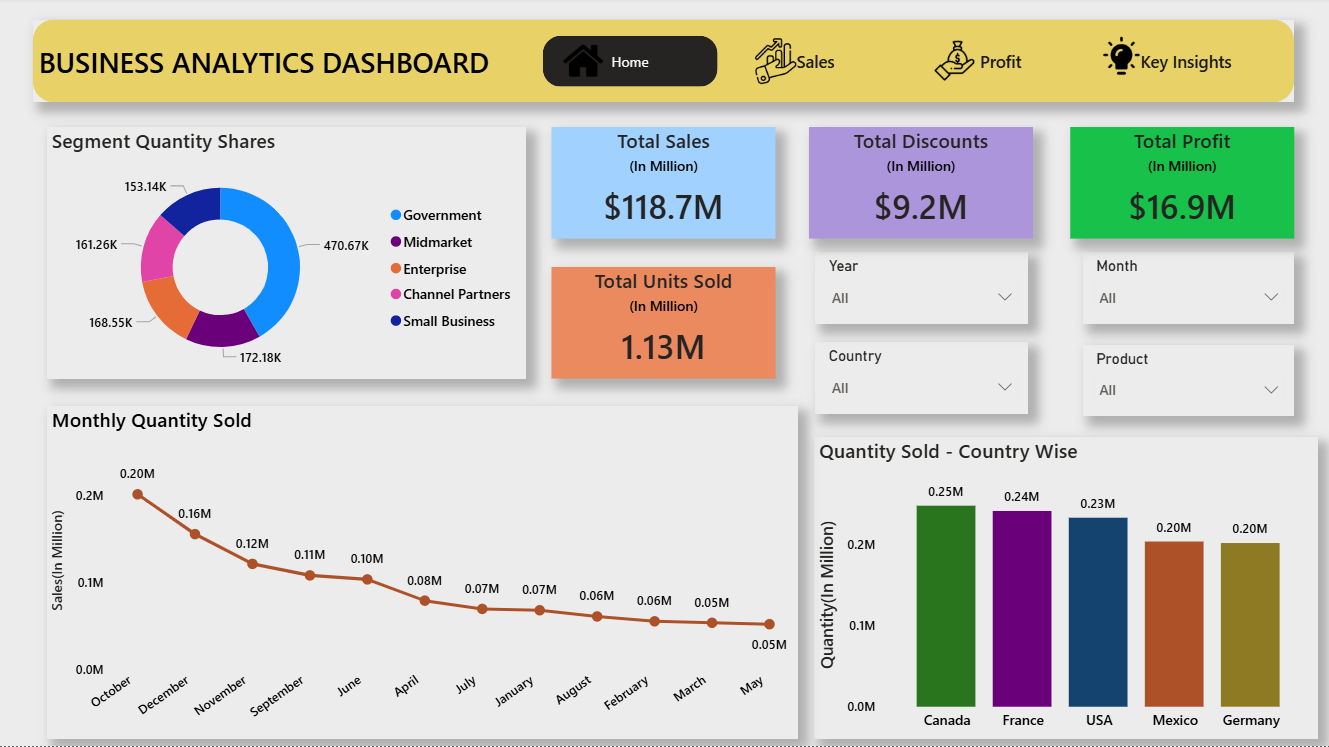

What the dashboard file says about the page in this screenshot:
{"tool":"powerbi","page":{"name":"Home","canvas":[1280,720],"ordinal":0},"visuals":[{"type":"slicer","fields":{"Values":["financials.Country"]},"box":[34.3,146.8,215.4,72.7],"z":0},{"type":"slicer","fields":{"Values":["financials.Product"]},"box":[282.7,259.3,215.4,72.7],"z":1000},{"type":"slicer","fields":{"Values":["financials.Year"]},"box":[282.7,146.8,215.4,72.7],"z":2000},{"type":"slicer","fields":{"Values":["financials.Month Name"]},"box":[32.9,259.3,215.4,72.7],"z":3000},{"type":"shape","box":[32.9,22,1211.7,79.6],"z":4000},{"type":"cardVisual","title":"Total Sales","fields":{"Data":["financials.Total Sales"]},"box":[531,124.9,215.4,107],"z":5000},{"type":"cardVisual","title":"Total Discounts ","fields":{"Data":["financials.Toatl Discount"]},"box":[767.1,124.9,215.4,107],"z":6000},{"type":"cardVisual","title":"Total Units Sold ","fields":{"Data":["financials.Total Quantity"]},"box":[531,259.3,215.4,107],"z":7000},{"type":"cardVisual","title":"Total Profit","fields":{"Data":["financials.Total Profit"]},"box":[1010,124.9,215.4,107],"z":8000},{"type":"columnChart","title":"Quantity Sold - Country Wise","fields":{"Category":["financials.Country"],"Y":["financials.Total Quantity"]},"box":[798.6,494,469.3,218.2],"z":9000},{"type":"donutChart","title":"Segment Quantity Shares","fields":{"Category":["financials.Segment"],"Y":["financials.Total Quantity"]},"box":[802.7,259.3,459.7,214.1],"z":10000},{"type":"lineChart","title":"Monthly Quantity Sold","fields":{"Category":["financials.Month Name"],"Y":["financials.Total Quantity"]},"box":[45.3,392.5,721.8,319.7],"z":11000},{"type":"pageNavigator","box":[522.8,37,702.6,49.4],"z":12000},{"type":"image","box":[887.8,42.5,60.4,38.4],"z":13000},{"type":"image","box":[709.4,39.8,72.7,43.9],"z":14000},{"type":"image","box":[531,42.5,60.4,38.4],"z":15000},{"type":"image","box":[1047,37,61.7,38.4],"z":16000}]}

Visuals, with their boxes in screenshot pixels (x1, y1, x2, y2), scaled from the page's 1280x720 canvas onto the 1329x747 screenshot:
slicer - financials.Country: bbox(36, 152, 259, 228)
slicer - financials.Product: bbox(294, 269, 517, 344)
slicer - financials.Year: bbox(294, 152, 517, 228)
slicer - financials.Month Name: bbox(34, 269, 258, 344)
shape: bbox(34, 23, 1292, 105)
"Total Sales" cardVisual: bbox(551, 130, 775, 241)
"Total Discounts " cardVisual: bbox(796, 130, 1020, 241)
"Total Units Sold " cardVisual: bbox(551, 269, 775, 380)
"Total Profit" cardVisual: bbox(1049, 130, 1272, 241)
"Quantity Sold - Country Wise" columnChart: bbox(829, 513, 1316, 739)
"Segment Quantity Shares" donutChart: bbox(833, 269, 1311, 491)
"Monthly Quantity Sold" lineChart: bbox(47, 407, 796, 739)
pageNavigator: bbox(543, 38, 1272, 90)
image: bbox(922, 44, 984, 84)
image: bbox(737, 41, 812, 87)
image: bbox(551, 44, 614, 84)
image: bbox(1087, 38, 1151, 78)
